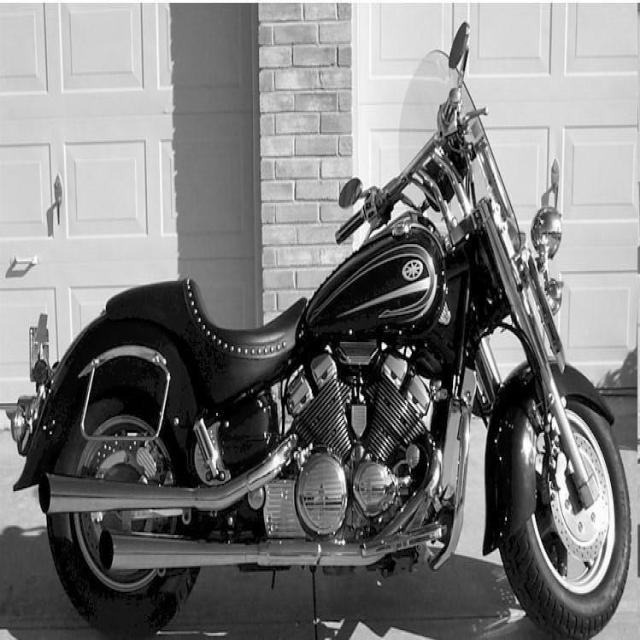Motorcycle: (12, 21, 632, 640)
